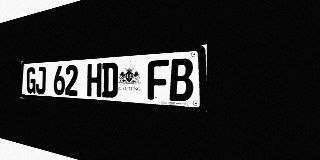2: (65, 65, 78, 96)
6: (54, 65, 65, 95)
B: (169, 58, 193, 102)
D: (102, 62, 118, 98)
F: (148, 59, 169, 101)
G: (26, 67, 36, 94)
H: (87, 63, 102, 97)
J: (36, 66, 46, 94)
